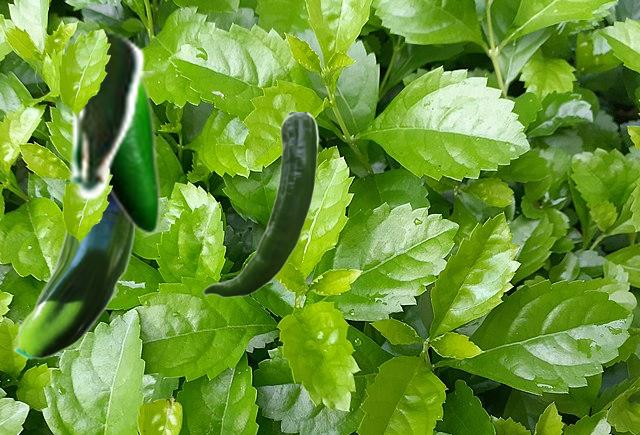green_chili: (202, 112, 318, 297), (12, 196, 133, 359), (64, 28, 145, 200), (110, 71, 160, 234)
